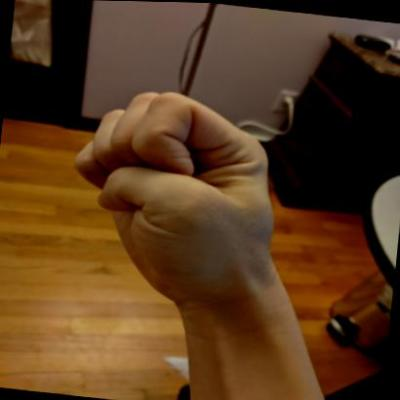hand: (56, 78, 294, 318)
